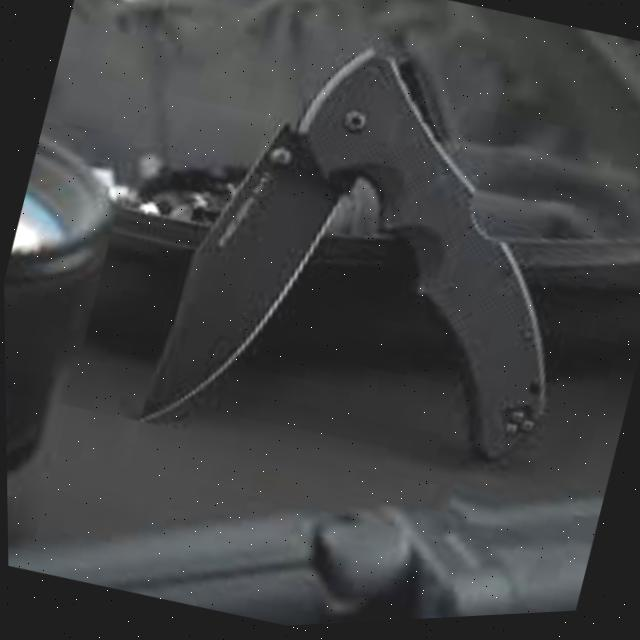knife: (128, 0, 628, 524)
